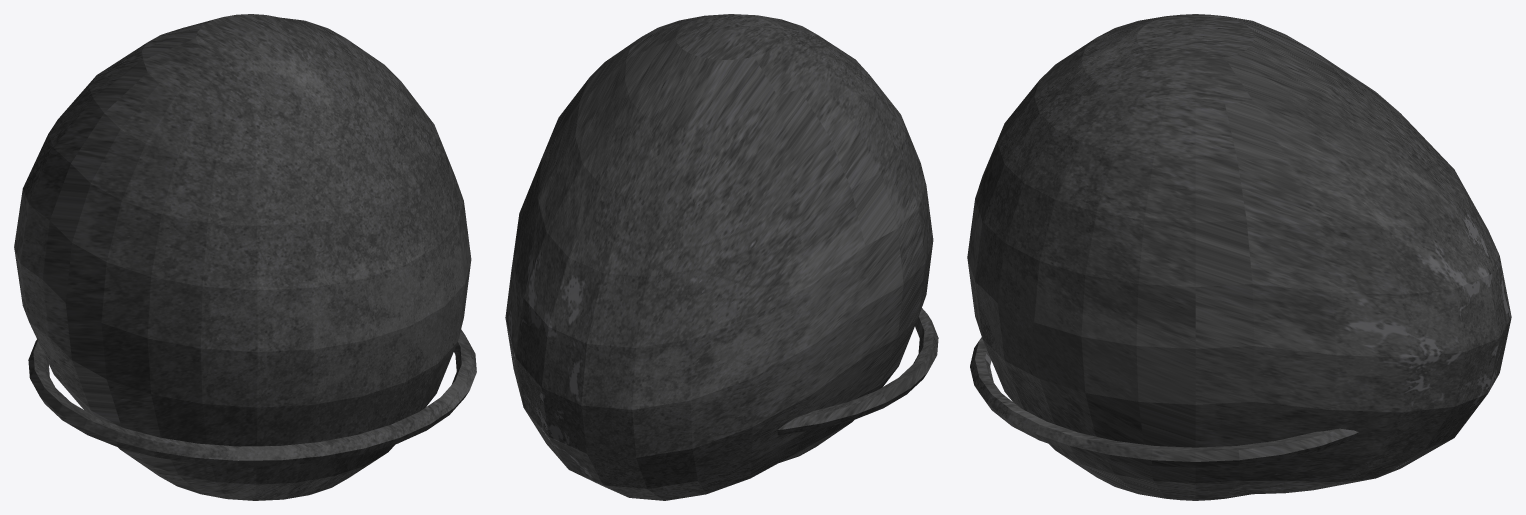
File: sallet.glb
3 views of the same model, side by side, from view 1: azimuth 30°, elevation 25°; view 2: azimuth 150°, elevation 25°; view 3: azimuth 270°, elevation 25° (orthographic). The views are drawn at different scales.
Parts seen in each view (by area): view 1: sallet; view 2: sallet; view 3: sallet.
Part boxes in pixels (x1,y1,x2,y2): sallet: [14, 14, 476, 500]; sallet: [505, 14, 938, 500]; sallet: [967, 14, 1511, 500].
Bounding box in the file's own units: 0.356 × 0.396 × 0.4293.
1 material, 1 textured.
